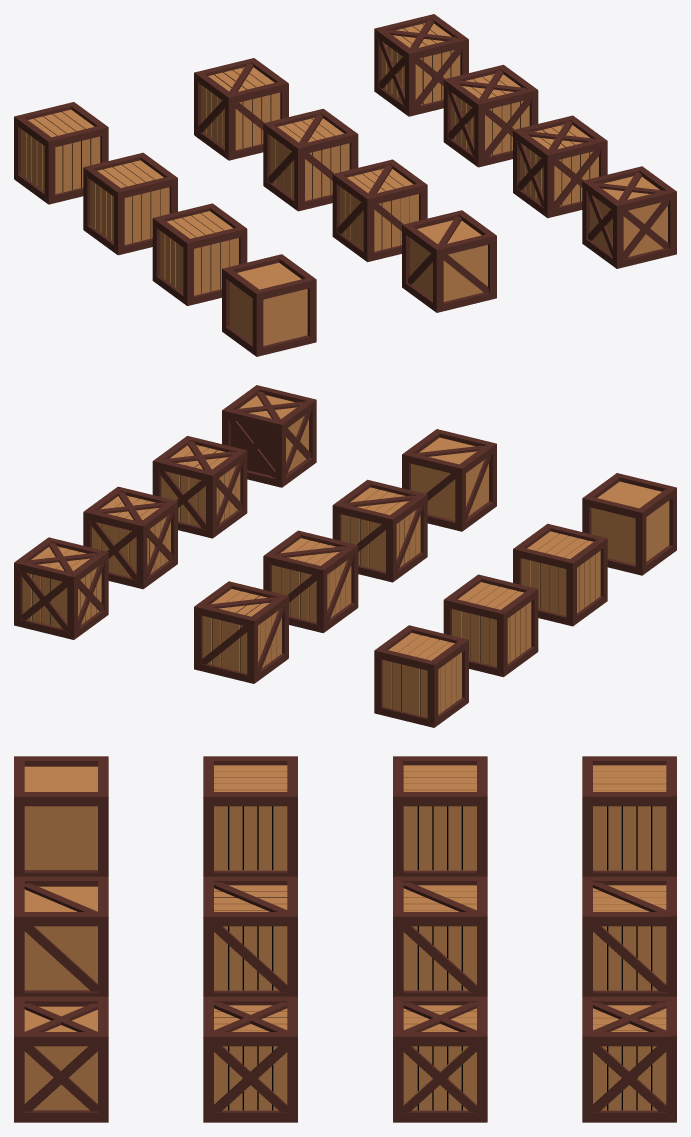
File: caixote.fbx
3 views of the same model, one above another, from view 1: azimuth 30°, elevation 25°; view 2: azimuth 150°, elevation 25°; view 3: azimuth 270°, elevation 25° (orthographic). The views are drawn at different scales.
Parts seen in each view (by area): view 1: Ultra Low Side Wooden Box, Ultra Low Cross Wooden Box, Ultra Low Basic Wooden Box, Low Side Wooden Box, Mid Cross Wooden Box, Low Basic Wooden Box, Mid Side Wooden Box, Low Cross Wooden Box, High Cross Wooden Box.003, Mid Basic Wooden Box, High Side Wooden Box, High Basic Wooden Box; view 2: High Basic Wooden Box, High Side Wooden Box, High Cross Wooden Box.003, Low Side Wooden Box, Mid Basic Wooden Box, Mid Side Wooden Box, Low Cross Wooden Box, Low Basic Wooden Box, Ultra Low Basic Wooden Box, Ultra Low Side Wooden Box, Ultra Low Cross Wooden Box, Mid Cross Wooden Box; view 3: Low Cross Wooden Box, Ultra Low Cross Wooden Box, Mid Cross Wooden Box, High Cross Wooden Box.003, Ultra Low Basic Wooden Box, Low Basic Wooden Box, Mid Basic Wooden Box, High Basic Wooden Box, Ultra Low Side Wooden Box, Low Side Wooden Box, High Side Wooden Box, Mid Side Wooden Box.
Part boxes in pixels (left/top/right/bottom): Ultra Low Side Wooden Box: left=402, top=210, right=496, bottom=312; Ultra Low Cross Wooden Box: left=582, top=166, right=676, bottom=268; Ultra Low Basic Wooden Box: left=222, top=254, right=316, bottom=356; Low Side Wooden Box: left=332, top=159, right=427, bottom=262; Mid Cross Wooden Box: left=443, top=64, right=538, bottom=167; Low Basic Wooden Box: left=152, top=203, right=247, bottom=305; Mid Side Wooden Box: left=263, top=109, right=358, bottom=211; Low Cross Wooden Box: left=513, top=115, right=607, bottom=218; High Cross Wooden Box.003: left=374, top=14, right=468, bottom=116; Mid Basic Wooden Box: left=83, top=152, right=177, bottom=255; High Side Wooden Box: left=194, top=58, right=288, bottom=160; High Basic Wooden Box: left=14, top=102, right=108, bottom=204; High Basic Wooden Box: left=374, top=625, right=468, bottom=727; High Side Wooden Box: left=194, top=581, right=288, bottom=683; High Cross Wooden Box.003: left=14, top=537, right=108, bottom=639; Low Side Wooden Box: left=332, top=479, right=427, bottom=582; Mid Basic Wooden Box: left=443, top=574, right=538, bottom=677; Mid Side Wooden Box: left=263, top=530, right=358, bottom=632; Low Cross Wooden Box: left=152, top=436, right=247, bottom=538; Low Basic Wooden Box: left=513, top=523, right=607, bottom=626; Ultra Low Basic Wooden Box: left=582, top=473, right=676, bottom=575; Ultra Low Side Wooden Box: left=402, top=429, right=496, bottom=531; Ultra Low Cross Wooden Box: left=222, top=385, right=316, bottom=487; Mid Cross Wooden Box: left=83, top=486, right=177, bottom=589; Low Cross Wooden Box: left=203, top=996, right=297, bottom=1122; Ultra Low Cross Wooden Box: left=14, top=996, right=108, bottom=1122; Mid Cross Wooden Box: left=393, top=996, right=487, bottom=1122; High Cross Wooden Box.003: left=582, top=996, right=676, bottom=1122; Ultra Low Basic Wooden Box: left=14, top=756, right=108, bottom=876; Low Basic Wooden Box: left=203, top=756, right=297, bottom=876; Mid Basic Wooden Box: left=393, top=756, right=487, bottom=876; High Basic Wooden Box: left=582, top=756, right=676, bottom=876; Ultra Low Side Wooden Box: left=14, top=876, right=108, bottom=996; Low Side Wooden Box: left=203, top=876, right=297, bottom=996; High Side Wooden Box: left=582, top=876, right=676, bottom=996; Mid Side Wooden Box: left=393, top=876, right=487, bottom=996.
Size of the model in its own units: 1400 by 200 by 1400.
